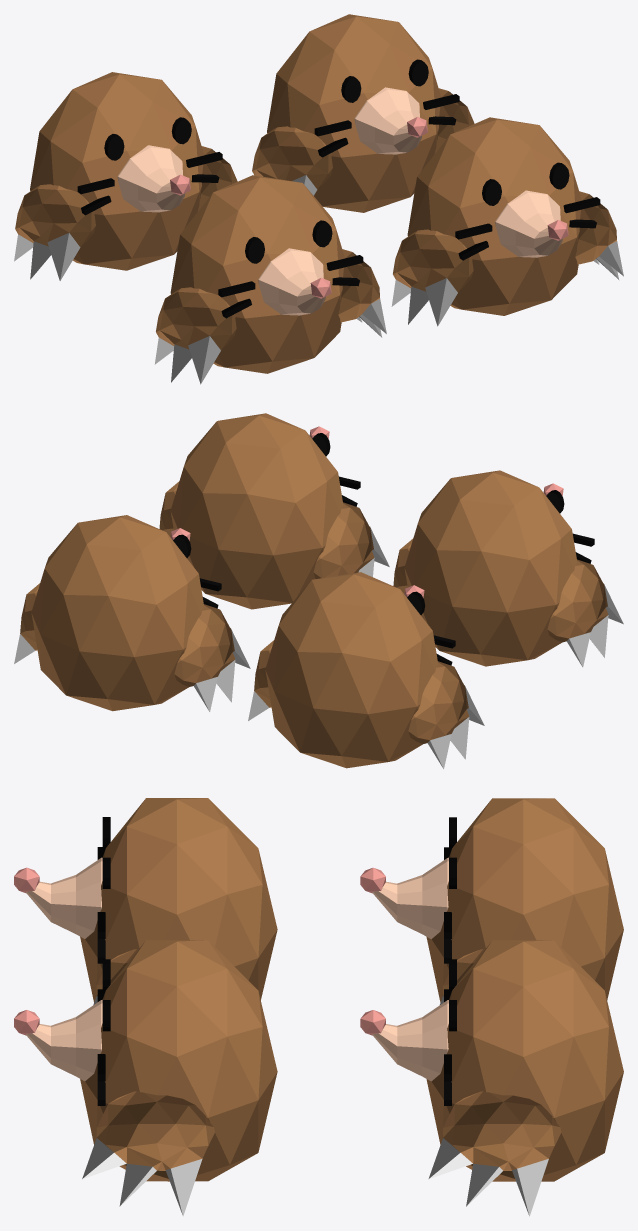
Rendered from GolpearAlTopo_Topos1.obj.
3 views of the same model, one above another, from view 1: azimuth 30°, elevation 25°; view 2: azimuth 150°, elevation 25°; view 3: azimuth 270°, elevation 25° (orthographic). The views are drawn at different scales.
Parts seen in each view (by area): view 1: RightHand003, RightHand004; view 2: RightHand004, RightHand003; view 3: RightHand003, RightHand004.
Boxes of the visible parts, x1=… form: RightHand003: x1=154, y1=117, x2=623, y2=384; RightHand004: x1=14, y1=14, x2=474, y2=280; RightHand004: x1=14, y1=515, x2=484, y2=769; RightHand003: x1=159, y1=413, x2=623, y2=667; RightHand003: x1=14, y1=798, x2=277, y2=1216; RightHand004: x1=360, y1=798, x2=623, y2=1216.
Bounding box in the file's own units: 1.3 × 0.4963 × 1.25.
